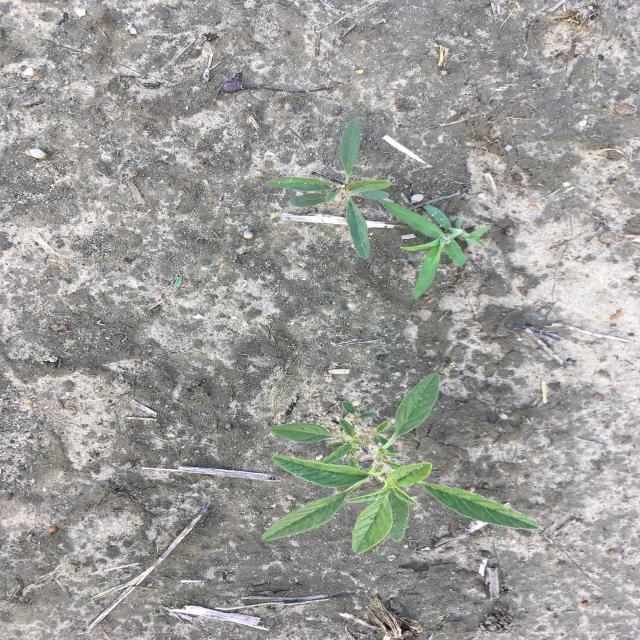Goosegrass: (377, 198, 491, 300)
Waterhemp: (259, 371, 544, 555), (265, 118, 393, 260)
